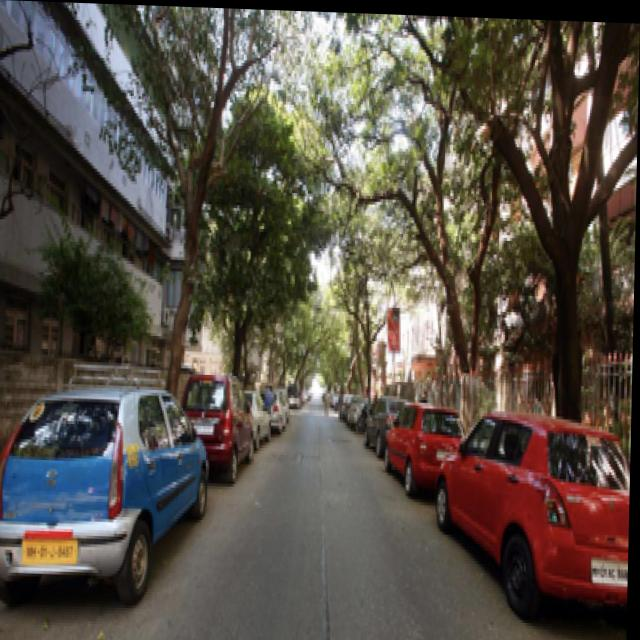licence: (25, 539, 79, 563), (594, 550, 629, 585)
